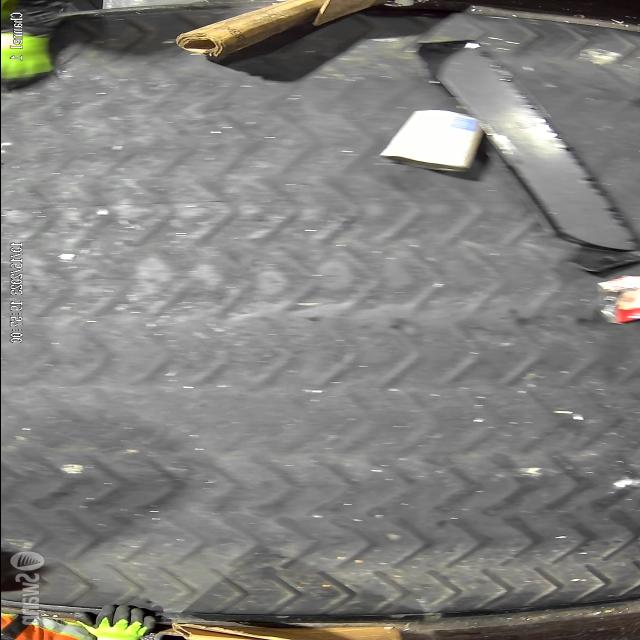can: (375, 109, 494, 172), (588, 277, 640, 317)
